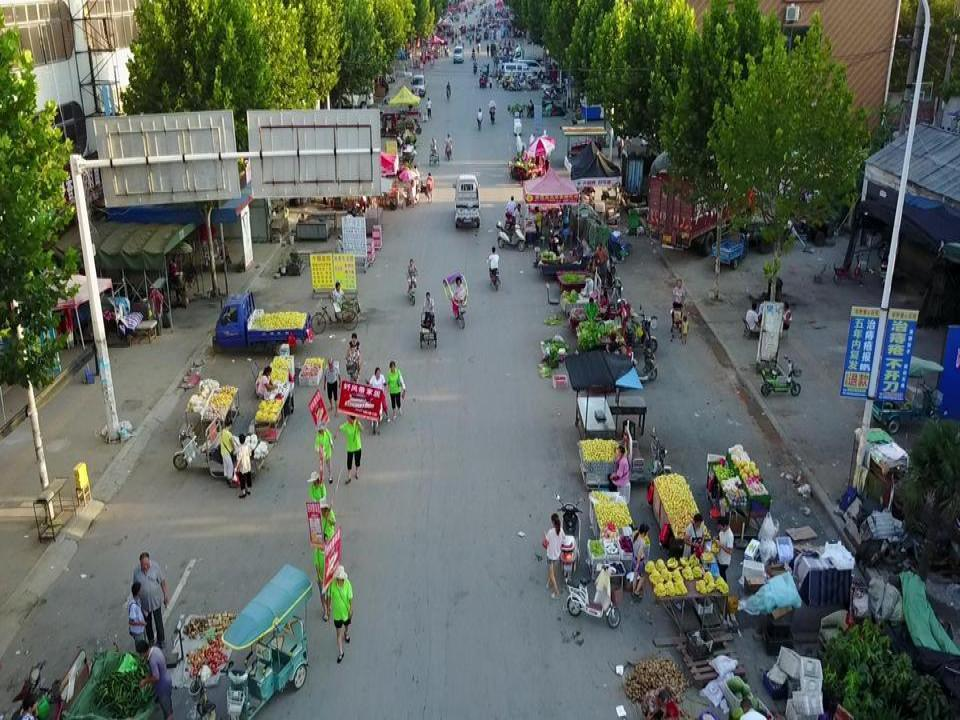car: (377, 94, 420, 118), (832, 252, 864, 281), (335, 84, 373, 108), (880, 240, 890, 285)
truck: (649, 135, 788, 256), (452, 175, 480, 228), (512, 43, 543, 62), (410, 75, 426, 96)
van: (518, 58, 546, 74), (503, 63, 533, 77), (452, 46, 464, 62)
